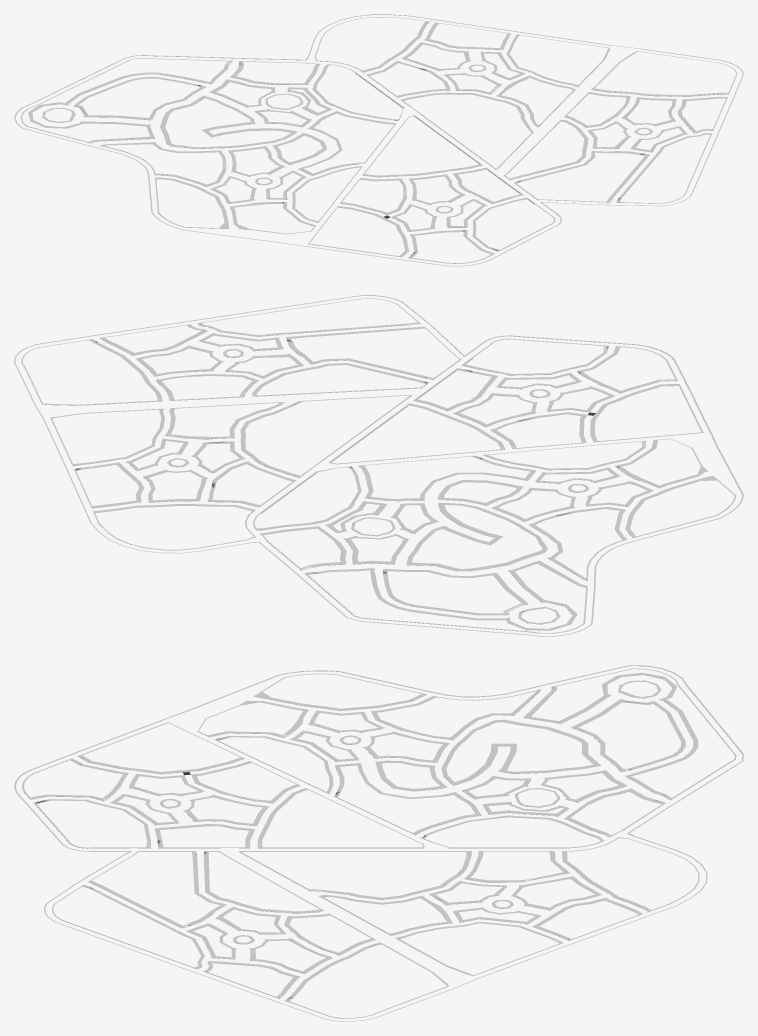
File: CidadeTresPasseiosfbx.fbx
3 renders of one model, top to bottom at view 1: azimuth 30°, elevation 25°; view 2: azimuth 150°, elevation 25°; view 3: azimuth 270°, elevation 25°, orthographic. The views are drawn at different scales.
Parts seen in each view (by area): view 1: Cube.017; view 2: Cube.017; view 3: Cube.017.
Part boxes in pixels (box(x1,y1,x2,y2)): Cube.017: box(14, 14, 743, 266); Cube.017: box(14, 295, 743, 636); Cube.017: box(14, 665, 743, 1021).
Bounding box in the file's own units: 240438 × 288 × 207907.
